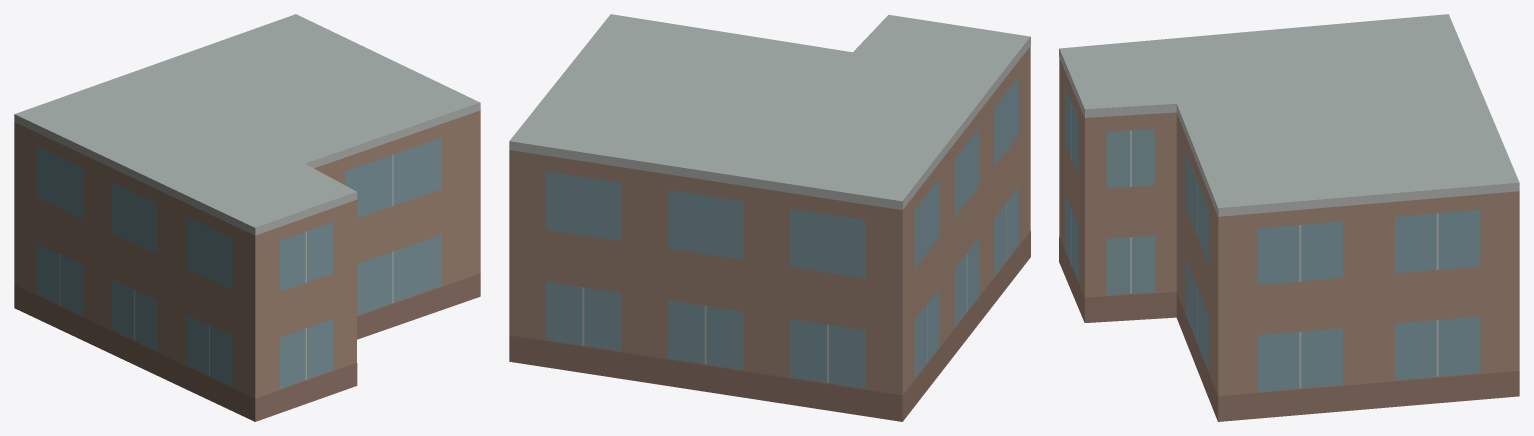
File: survey-upis-32926414.glb
3 renders of one model, left to right at view 1: azimuth 30°, elevation 25°; view 2: azimuth 150°, elevation 25°; view 3: azimuth 270°, elevation 25°, orthographic. The views are drawn at different scales.
Visible parts, largest first — view 1: survey-upis-32926414.tmp; view 2: survey-upis-32926414.tmp; view 3: survey-upis-32926414.tmp.
Part boxes in pixels (x1,y1,x2,y2): survey-upis-32926414.tmp: (14, 14, 480, 421); survey-upis-32926414.tmp: (509, 14, 1030, 421); survey-upis-32926414.tmp: (1059, 14, 1519, 421).
Size of the model in its own units: 11.91 by 6.1 by 11.93.
